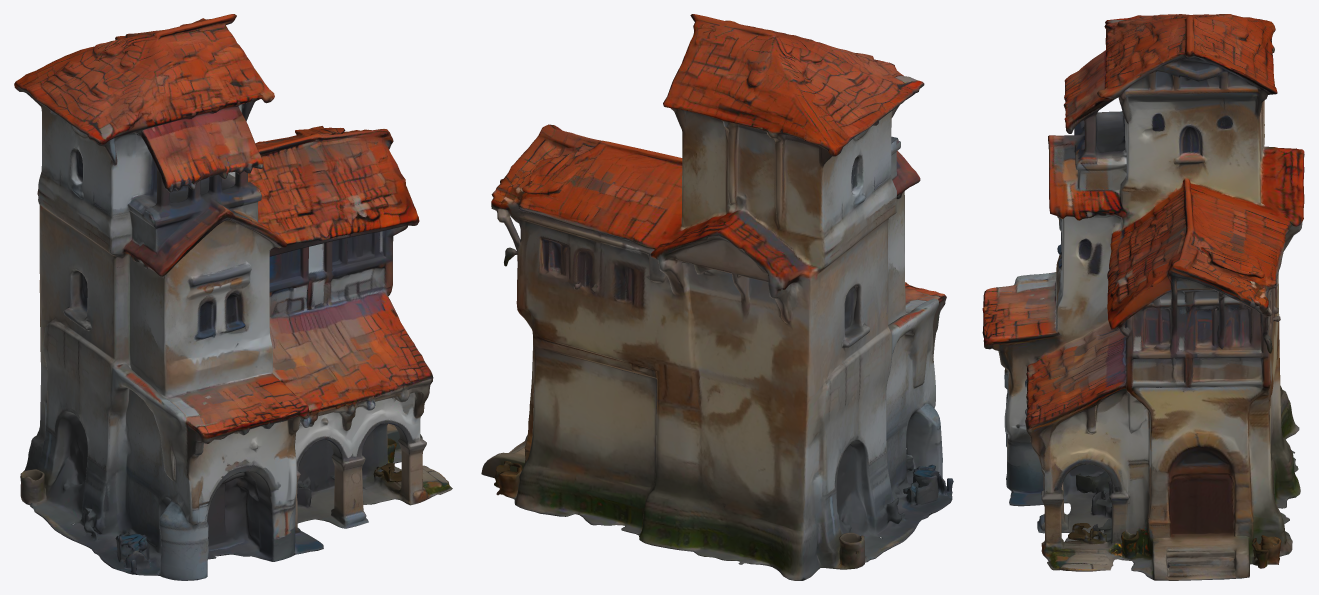
The picture shows the model from 3 angles, left to right: view 1: azimuth 30°, elevation 25°; view 2: azimuth 150°, elevation 25°; view 3: azimuth 270°, elevation 25°; orthographic projection. The views are drawn at different scales.
Visible parts, largest first — view 1: tripo_node_6131beea-52f1-4bc7-833f-15fc5b99cca6; view 2: tripo_node_6131beea-52f1-4bc7-833f-15fc5b99cca6; view 3: tripo_node_6131beea-52f1-4bc7-833f-15fc5b99cca6.
Part boxes in pixels (x1,y1,x2,y2): tripo_node_6131beea-52f1-4bc7-833f-15fc5b99cca6: [14, 14, 452, 580]; tripo_node_6131beea-52f1-4bc7-833f-15fc5b99cca6: [481, 14, 953, 580]; tripo_node_6131beea-52f1-4bc7-833f-15fc5b99cca6: [982, 14, 1304, 580].
Size of the model in its own units: 0.8135 by 1 by 0.6412.
Materials: 1 (1 with a texture image).
